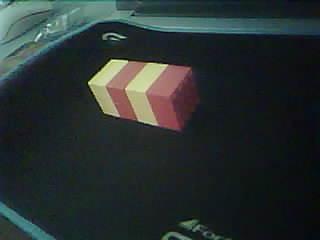lego: (88, 59, 201, 131)
